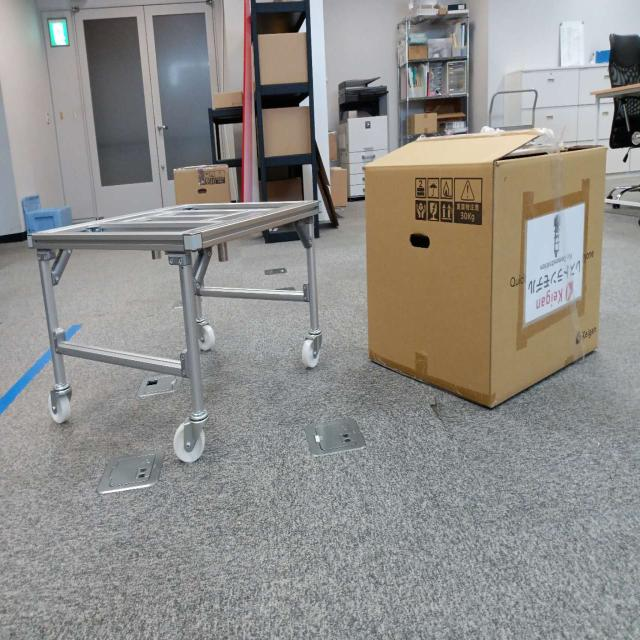box: (366, 139, 602, 405)
door: (186, 206, 317, 291)
side: (33, 232, 198, 382)
